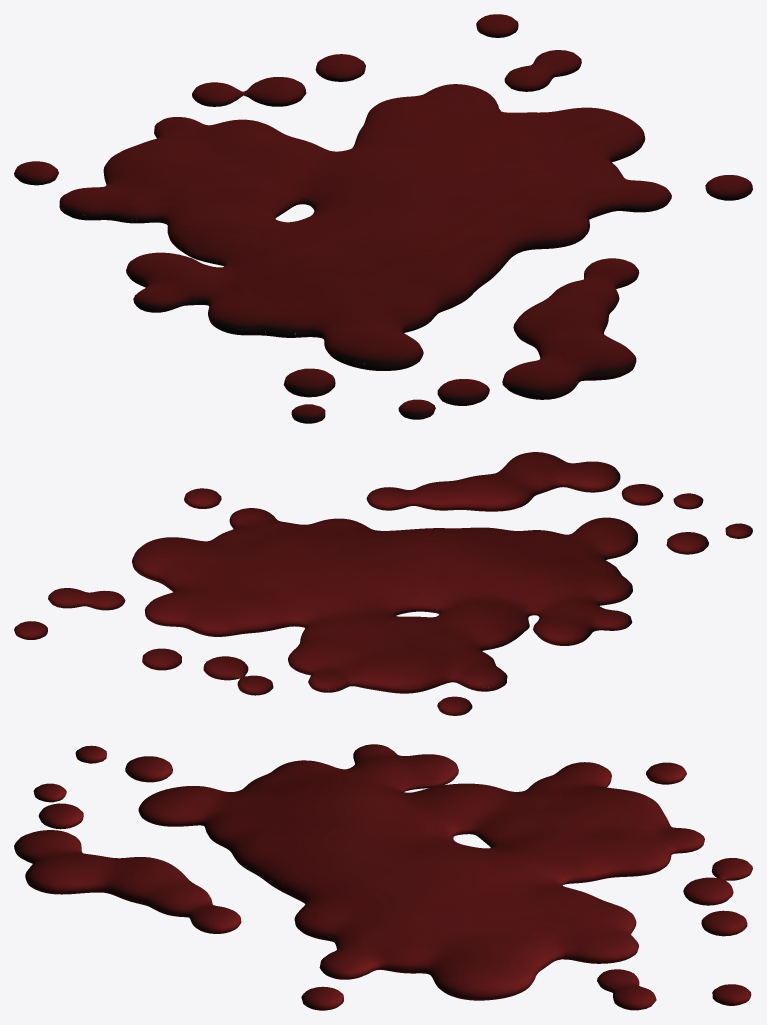
File: blood.obj
3 renders of one model, top to bottom at view 1: azimuth 30°, elevation 25°; view 2: azimuth 150°, elevation 25°; view 3: azimuth 270°, elevation 25°, orthographic. The views are drawn at different scales.
Parts seen in each view (by area): view 1: Remesh_Mat_0; view 2: Remesh_Mat_0; view 3: Remesh_Mat_0.
Boxes of the visible parts, x1,y1,x2,y2 form: Remesh_Mat_0: (14,14,752,423); Remesh_Mat_0: (14,452,752,715); Remesh_Mat_0: (14,744,752,1010).
Size of the model in its own units: 13.49 by 1.09 by 16.13.
1 material, 1 textured.
